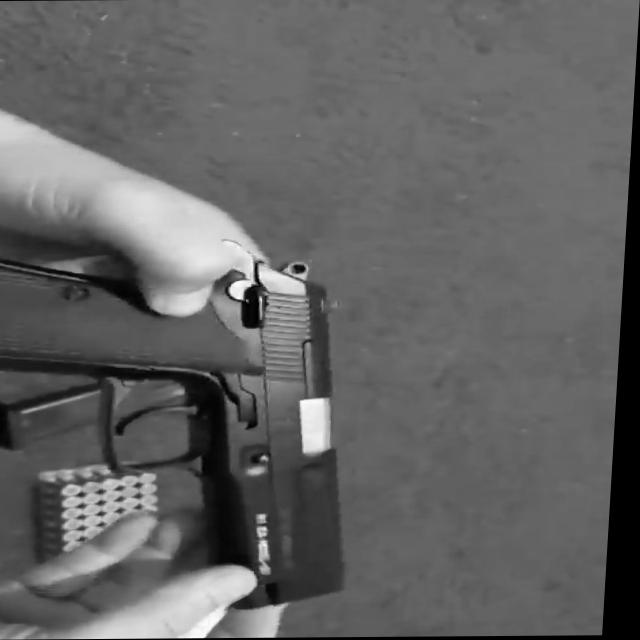handgun: (0, 222, 368, 618)
